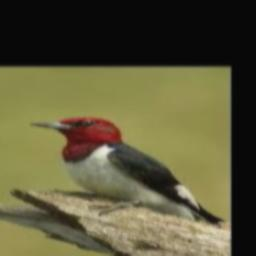Woodpecker: (29, 117, 225, 225)
